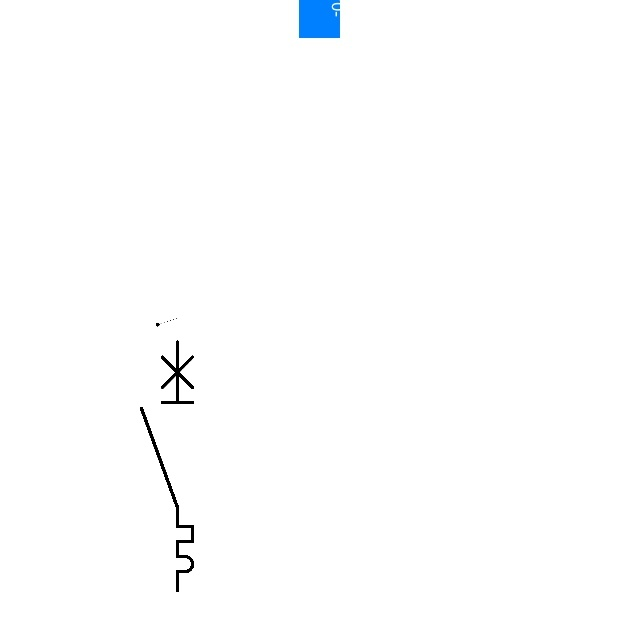interruptor_termomagnetico: (135, 335, 199, 597)
